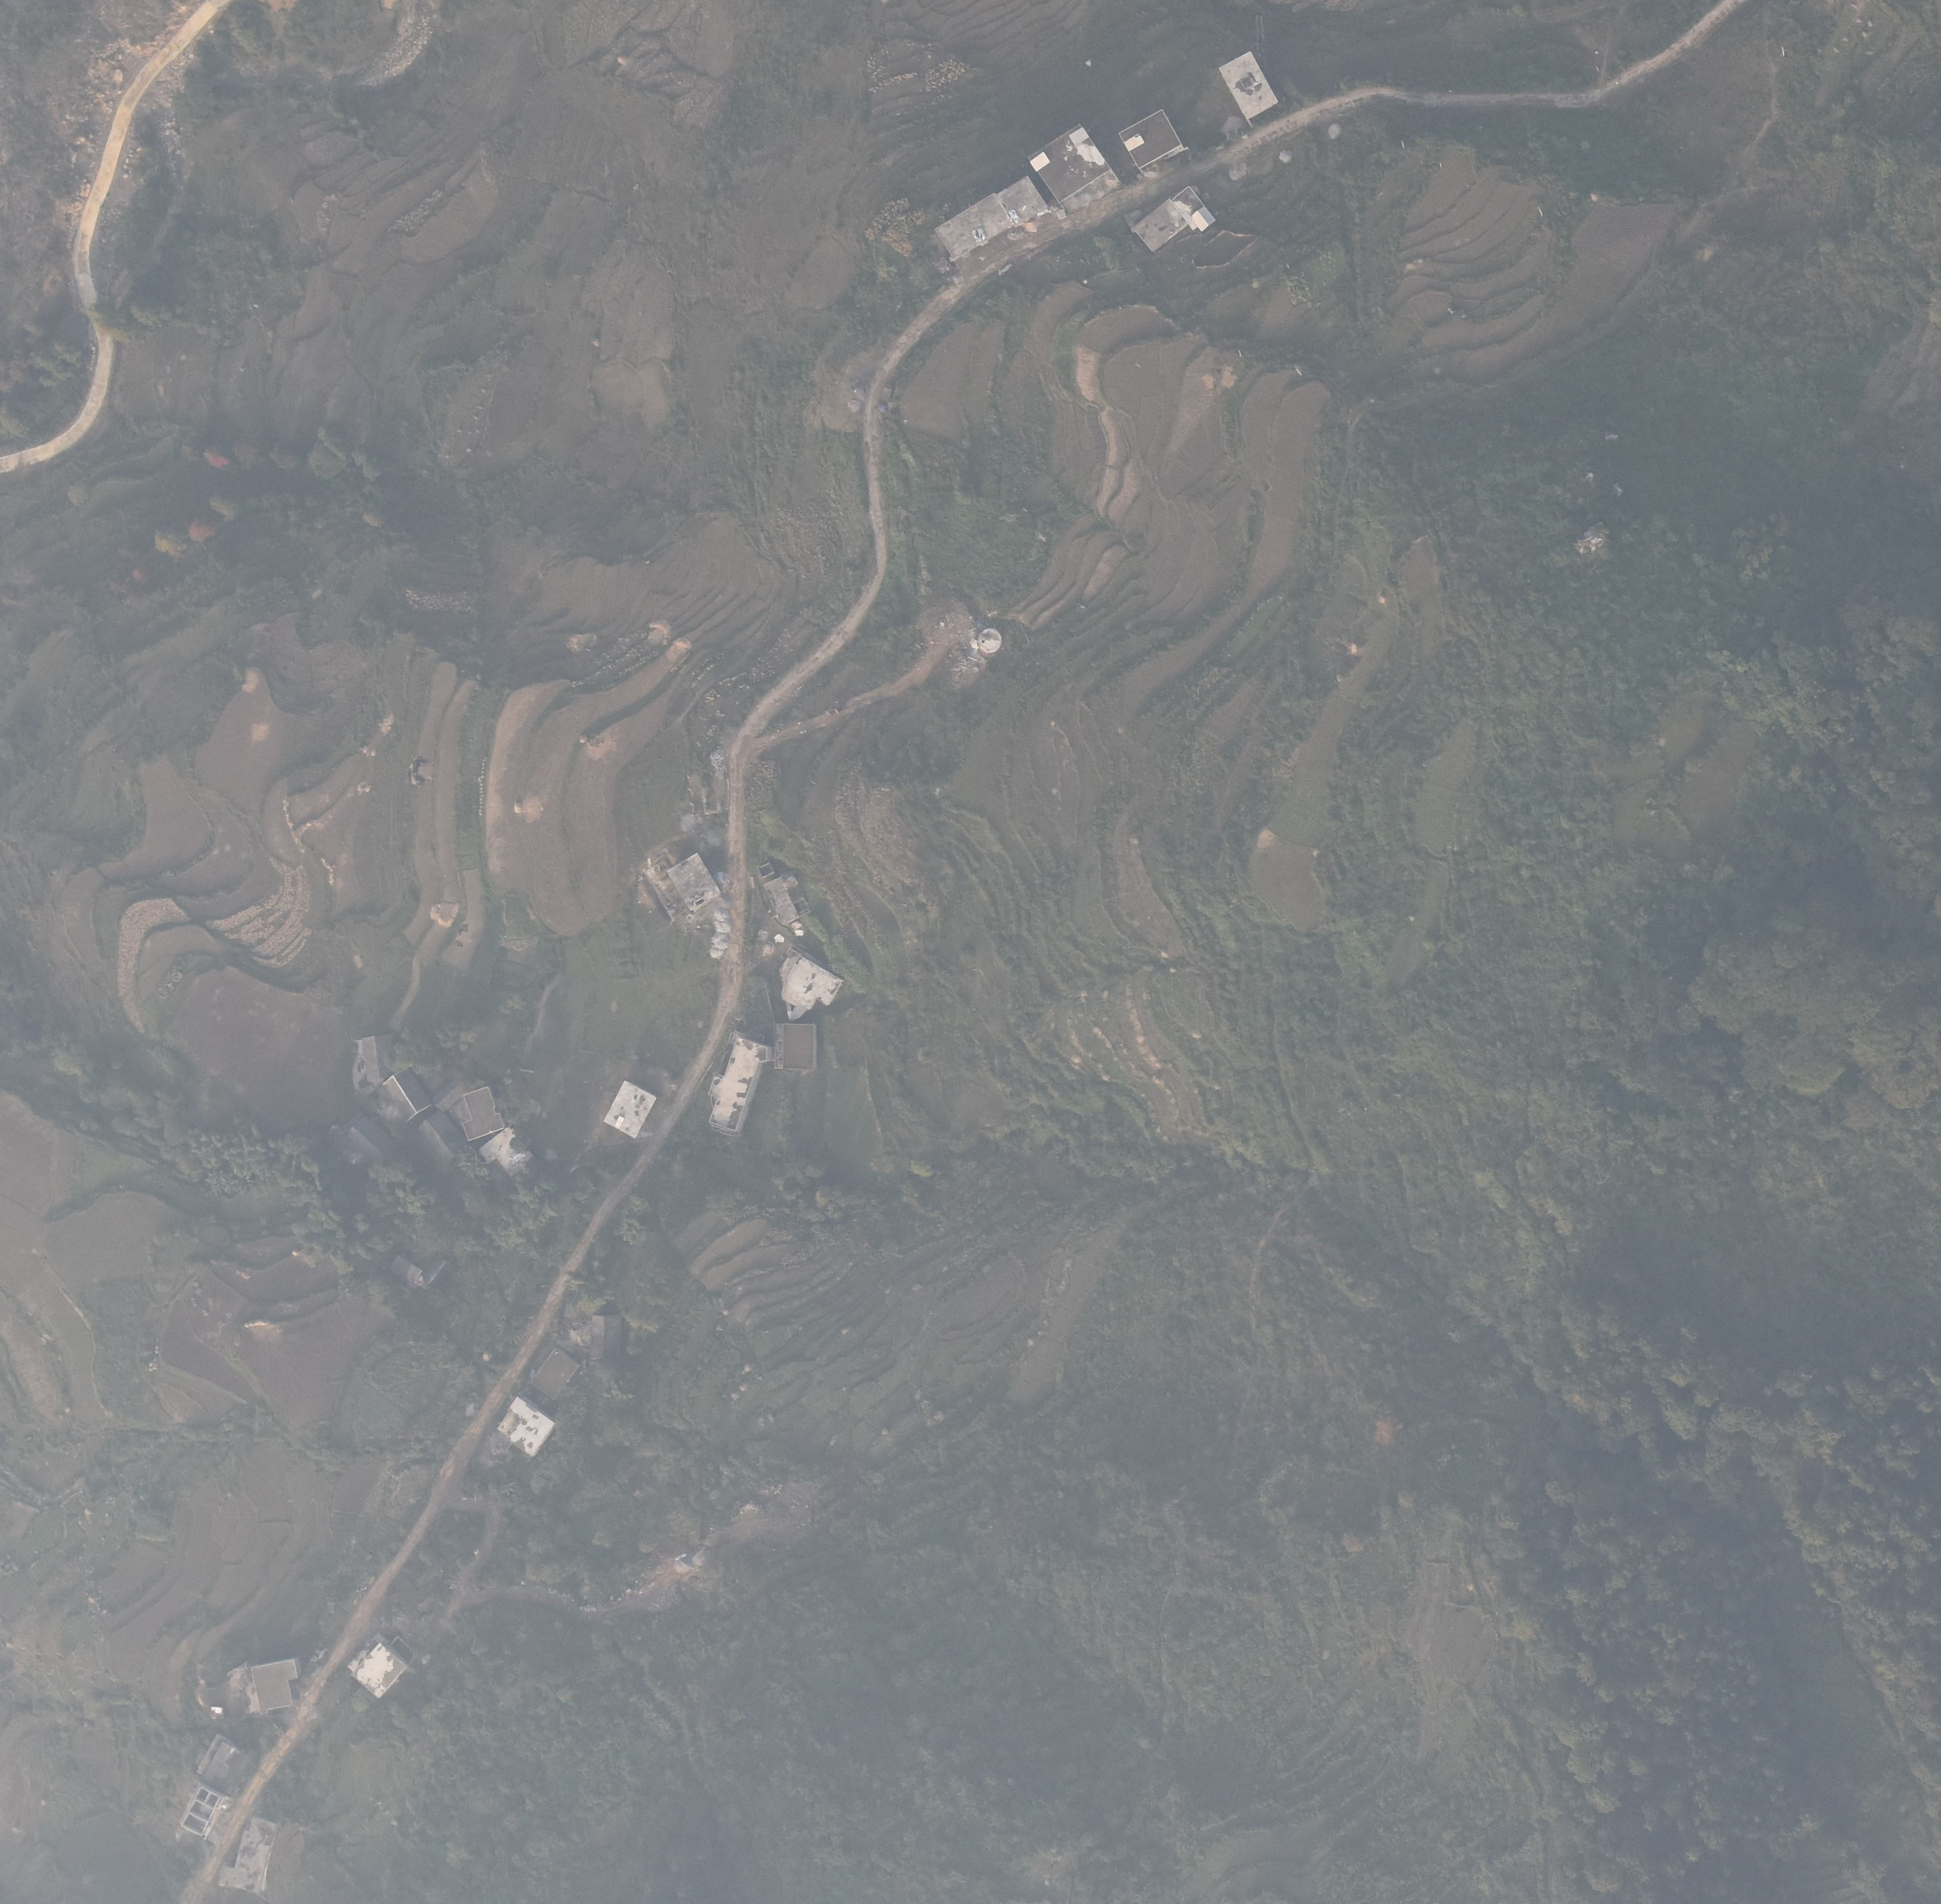building: (1025, 122, 1114, 204), (706, 1034, 774, 1133), (933, 192, 1015, 262), (216, 1813, 281, 1892), (1216, 51, 1278, 124), (1118, 108, 1189, 171), (780, 950, 844, 1018), (347, 1637, 410, 1702), (495, 1395, 556, 1458), (195, 1738, 260, 1798), (602, 1079, 659, 1137), (668, 854, 724, 910), (380, 1067, 434, 1125), (455, 1085, 507, 1142), (528, 1343, 581, 1400), (344, 1116, 398, 1170), (420, 1109, 473, 1165), (249, 1656, 302, 1710), (992, 176, 1048, 227), (480, 1125, 534, 1175), (1135, 201, 1188, 249), (183, 1787, 230, 1839), (1174, 185, 1219, 232), (781, 1020, 820, 1074), (588, 1313, 628, 1363), (764, 874, 799, 928), (361, 1030, 394, 1086), (387, 1252, 422, 1295), (431, 1078, 471, 1112), (422, 1254, 453, 1292), (1069, 126, 1088, 146)
prefabricated-house: (1193, 204, 1214, 232), (1120, 133, 1148, 150), (1029, 152, 1050, 173)
well: (973, 624, 1003, 656)
